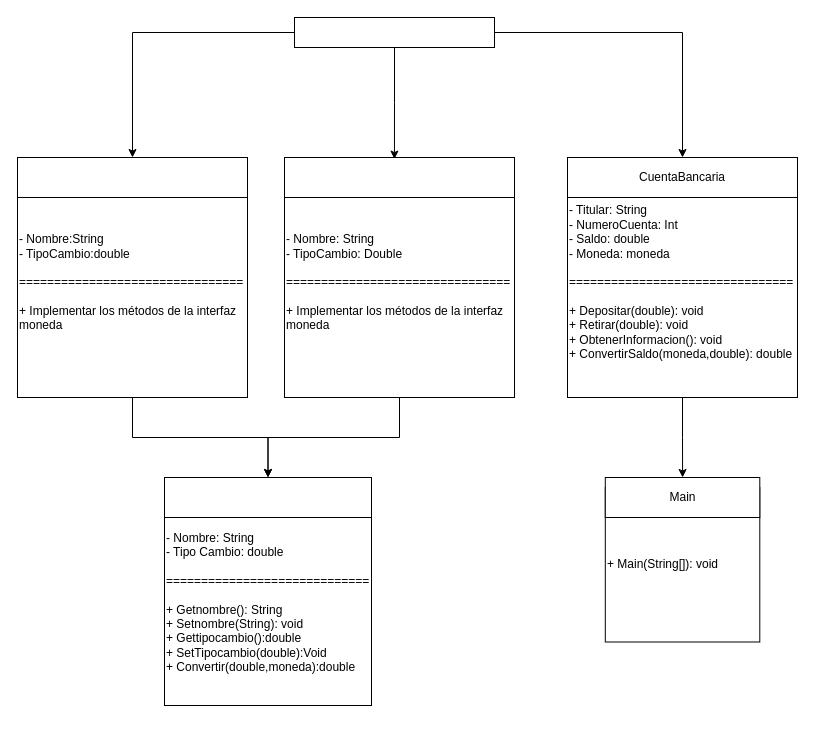
Some shapes in this 815 by 731 pixel diagram are drawn without their labels. Each missing label, with the centre of its shape:
"Clases" belongs at (394,32).
"Dolar" belongs at (132,177).
"Euro" belongs at (399,177).
"Moneda" belongs at (268,497).
